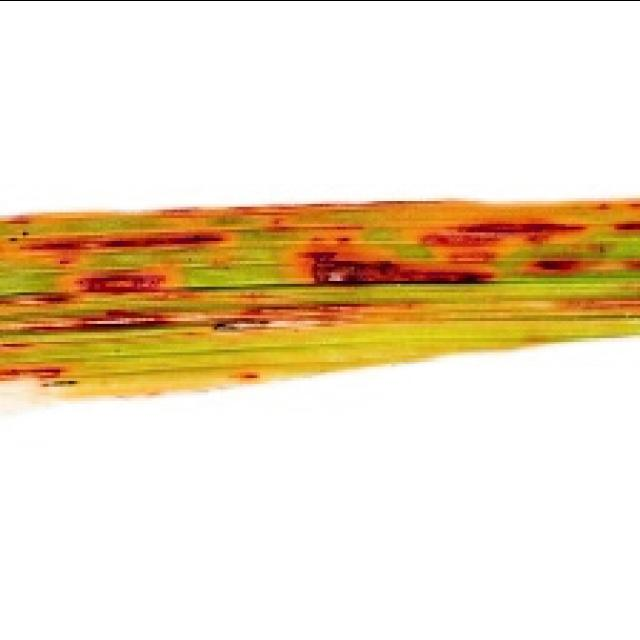Unhealthy: (285, 220, 499, 287), (148, 198, 446, 232), (1, 227, 238, 269), (58, 253, 205, 305), (213, 299, 444, 332), (417, 221, 593, 264), (28, 306, 200, 333), (0, 361, 75, 382), (0, 289, 75, 309), (552, 296, 640, 310), (531, 258, 579, 270), (0, 340, 36, 350), (1, 212, 30, 224), (613, 220, 640, 230), (619, 258, 640, 269), (240, 370, 260, 378), (595, 201, 611, 211), (623, 201, 640, 209)
